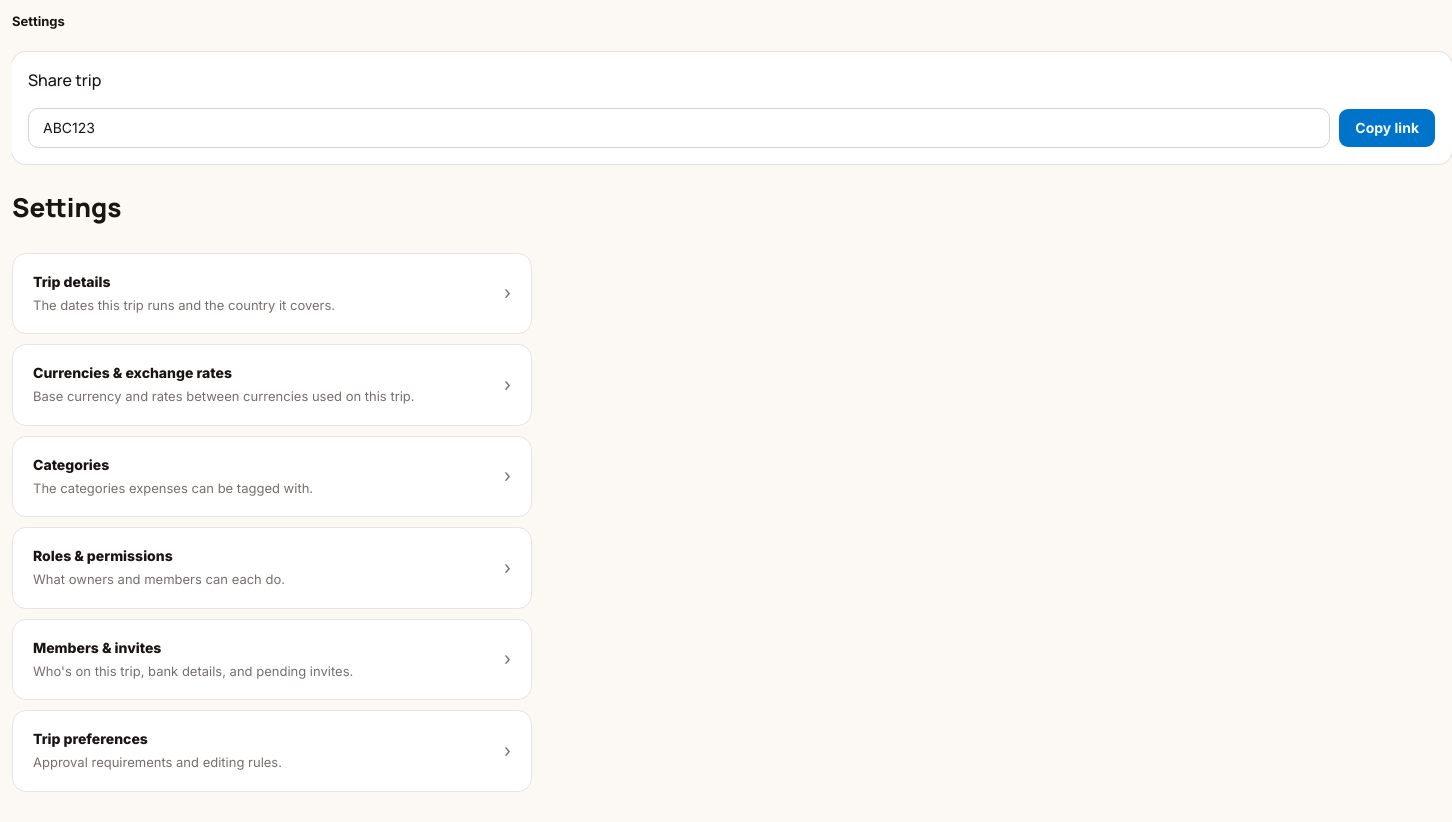
Test: SettingsPanel › refuses to save a trip window that ends before it starts
Click the button "Trip details".
click(72, 281)  # box 12,252 -> 532,334
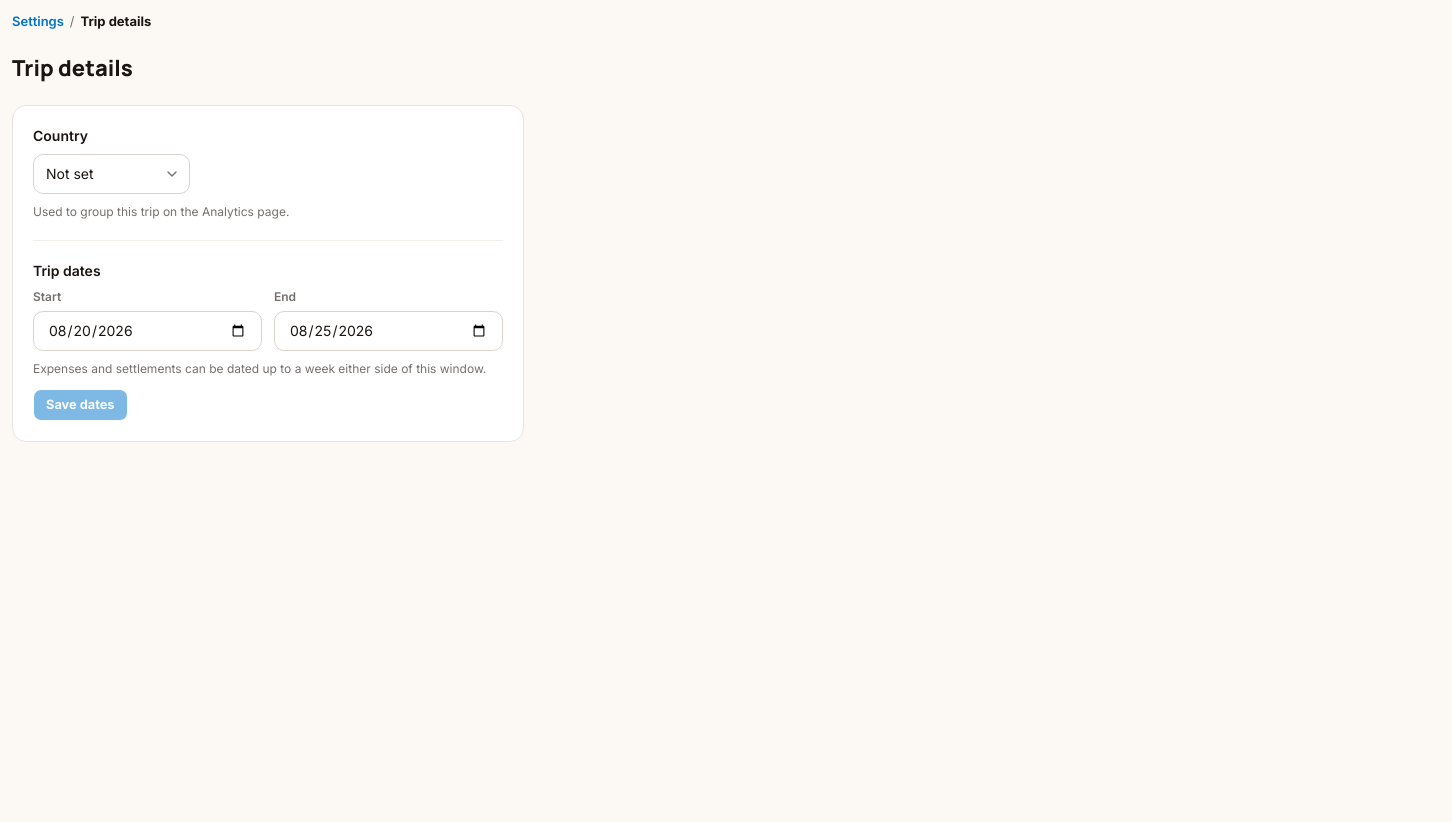
Type "2026-08-19" into the date field labelled "End".
click(388, 330); type("2026-08-19")  # box 274,310 -> 503,350
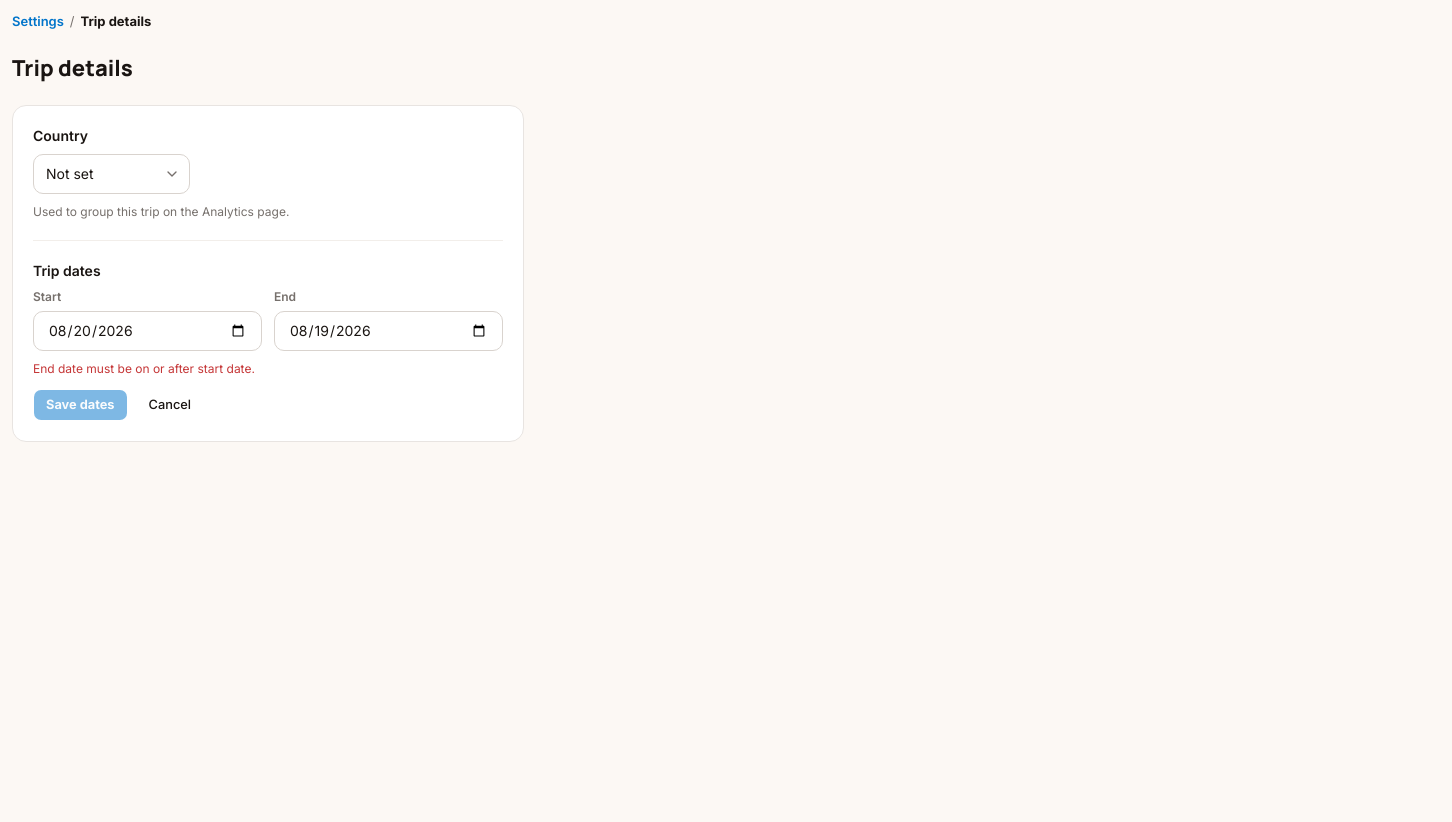
expect the button "Save dates" is disabled: met, box 33,388 -> 128,420
expect the message shows "on or after start date": met, box 33,360 -> 255,376
